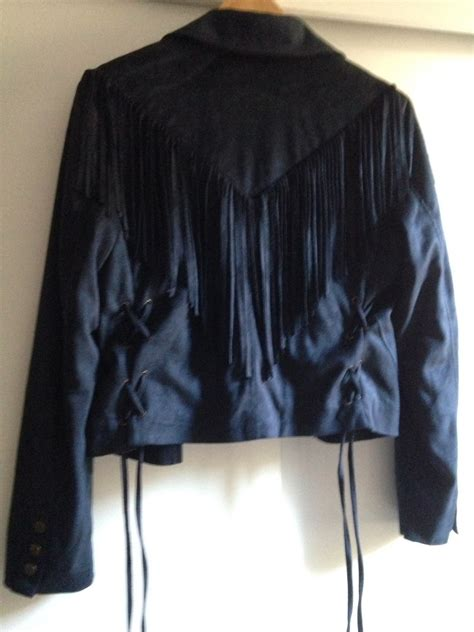gamuza: (10, 9, 458, 590)
